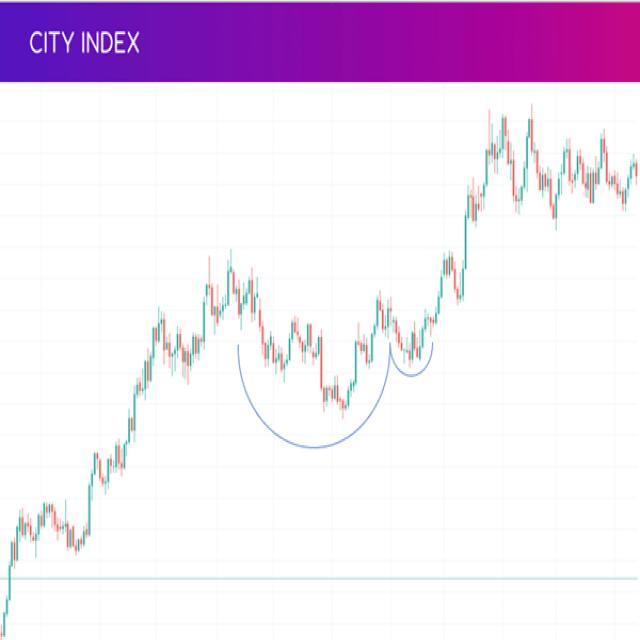Cup-and-handle: (221, 246, 451, 422)
